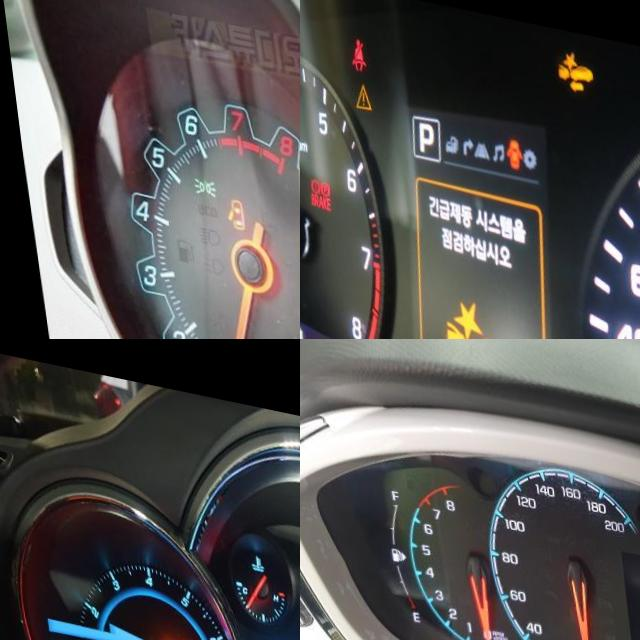Central Warning lamp: (349, 68, 368, 99)
Doors: (216, 187, 237, 221), (500, 118, 520, 152)
SideLamp: (183, 166, 207, 189)
